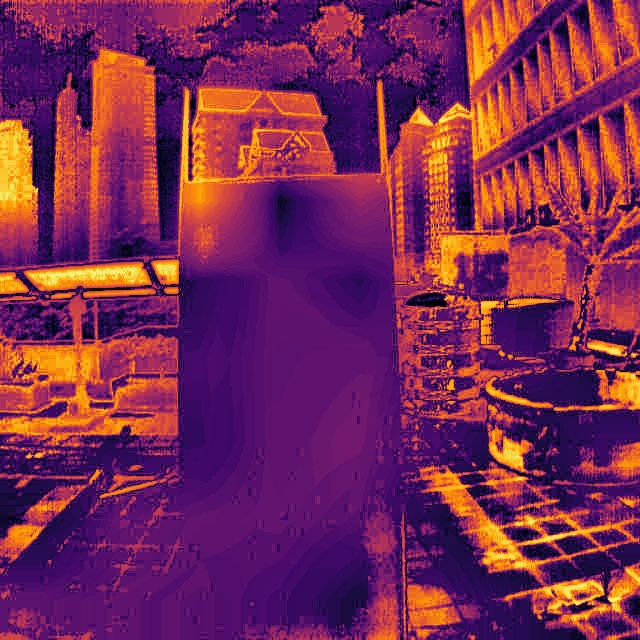Hotspot: (187, 226, 217, 265)
